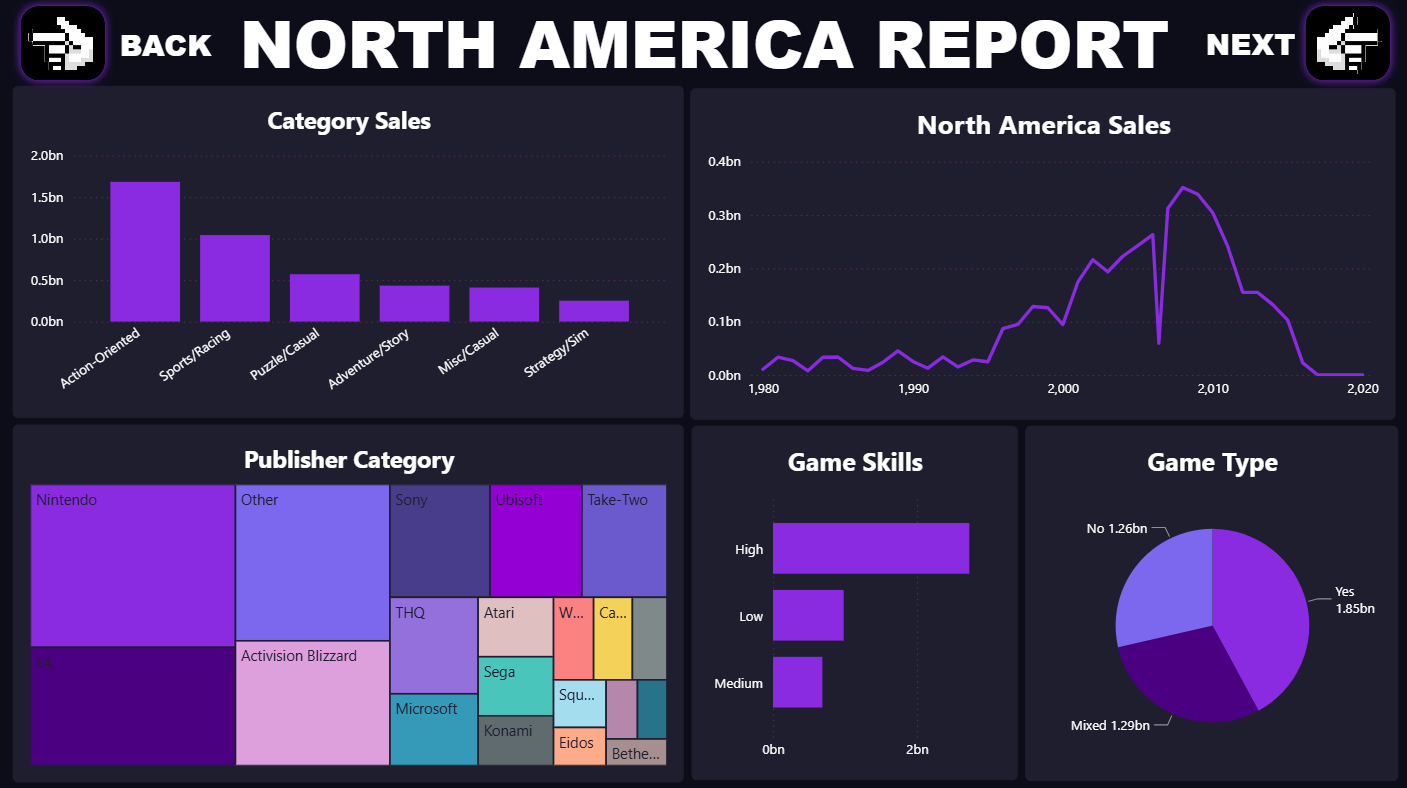

What the dashboard file says about the page in this screenshot:
{"tool":"powerbi","page":{"name":"NORTH AMERICA REPORT","canvas":[1280,720],"ordinal":5},"visuals":[{"type":"textbox","title":"NORTH AMERICA REPORT ","box":[171.3,0,937.4,74.7],"z":0},{"type":"lineChart","title":"North America Sales","fields":{"Category":["Fact_Sales.Year"],"Y":["Sum(Fact_Sales.NA_Sales_Mill)"]},"box":[627.5,82.4,644.6,300.5],"z":1000},{"type":"pieChart","title":"Game Type","fields":{"Category":["Dim_category.Multiplayer"],"Y":["Sum(Fact_Sales.NA_Sales_Mill)"]},"box":[930.7,388.9,341.4,321.8],"z":2000},{"type":"barChart","title":"Game Skills","fields":{"Category":["Dim_category.Skills"],"Y":["Sum(Fact_Sales.NA_Sales_Mill)"]},"box":[628.4,388.9,295.9,321.9],"z":3000},{"type":"columnChart","title":"Category Sales","fields":{"Category":["Dim_category.Category"],"Y":["Sum(Fact_Sales.NA_Sales_Mill)"]},"box":[12.2,80.8,608.6,301.4],"z":4000},{"type":"treemap","title":"Publisher Category","fields":{"Group":["Dim_Company.Publisher_Category"],"Values":["Sum(Fact_Sales.NA_Sales_Mill)"]},"box":[12.2,387.4,608.6,324.9],"z":5000},{"type":"actionButton","box":[11.6,0,93,83.9],"z":6000},{"type":"textbox","title":"BACK","box":[105.9,23.5,91.5,39.7],"z":7000},{"type":"textbox","title":"NEXT","box":[1080.8,22.9,109.8,39.7],"z":8000},{"type":"actionButton","box":[1177.5,0,93,83.9],"z":9000}]}

Visuals, with their boxes in screenshot pixels (x1, y1, x2, y2), scaled from the page's 1280x720 canvas onto the 1407x788 screenshot:
"NORTH AMERICA REPORT " textbox: 188 0 1219 82
"North America Sales" lineChart: 690 90 1398 419
"Game Type" pieChart: 1023 426 1398 778
"Game Skills" barChart: 691 426 1016 778
"Category Sales" columnChart: 13 88 682 418
"Publisher Category" treemap: 13 424 682 780
actionButton: 13 0 115 92
"BACK" textbox: 116 26 217 69
"NEXT" textbox: 1188 25 1309 69
actionButton: 1294 0 1397 92
